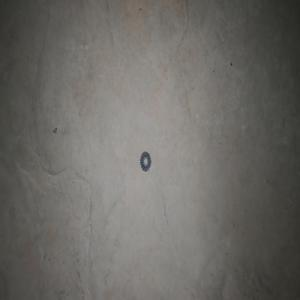Washer: (139, 150, 151, 171)
